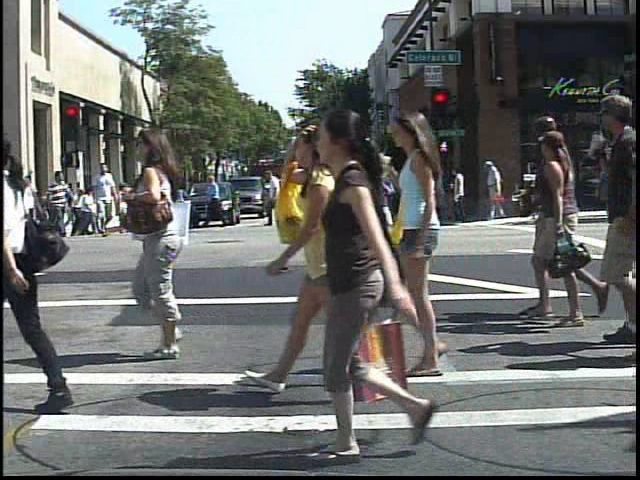person: (311, 104, 435, 467), (382, 103, 521, 381), (253, 114, 372, 398), (0, 116, 86, 424), (112, 117, 210, 363), (592, 78, 638, 350), (90, 160, 123, 241), (45, 164, 74, 241), (481, 155, 512, 227), (14, 170, 38, 242), (101, 178, 121, 219), (164, 175, 183, 210)
